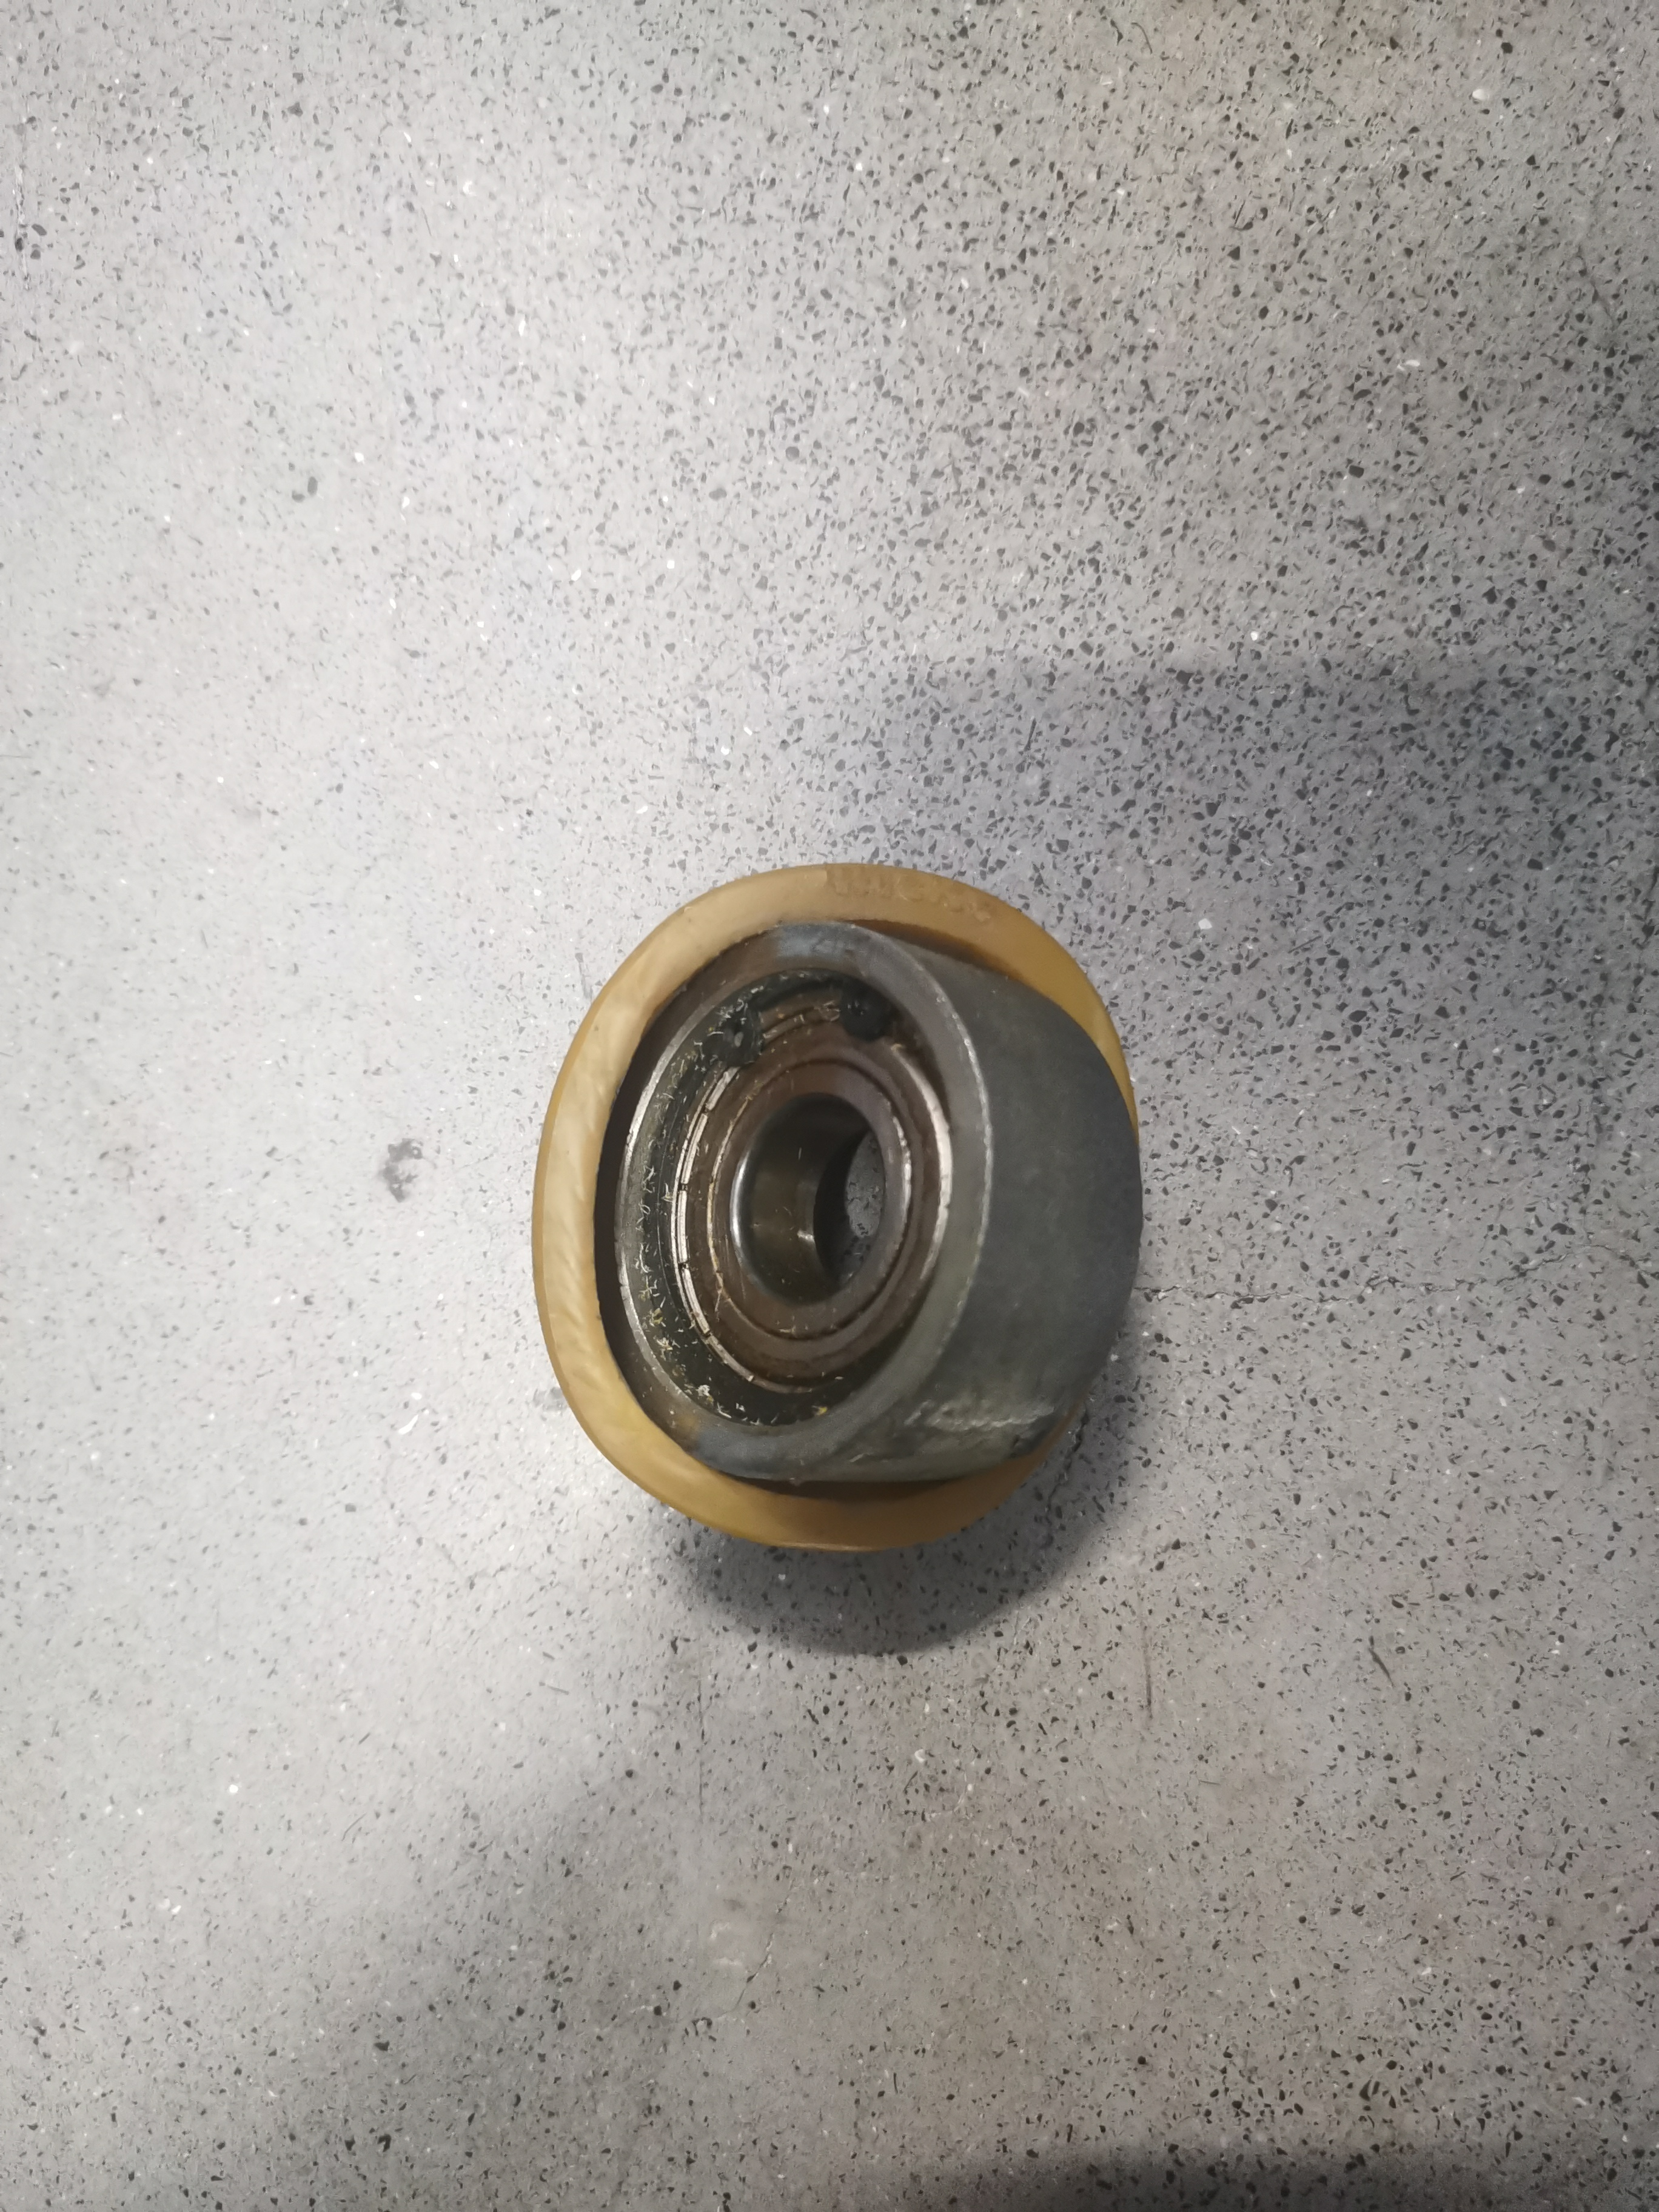bad_wheel: (477, 820, 1220, 1604)
